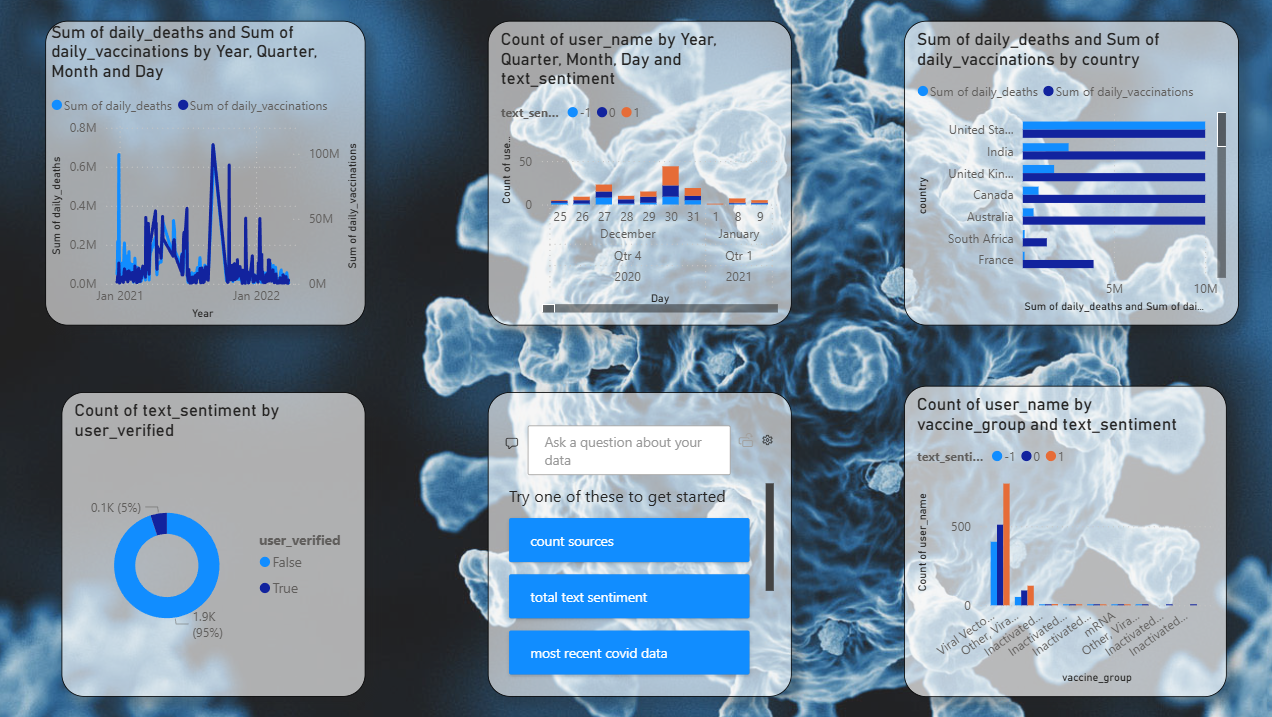

This screenshot's page, from the dashboard's own definition file:
{"tool":"powerbi","page":{"name":"Page 1","canvas":[1280,720],"ordinal":0},"visuals":[{"type":"lineChart","fields":{"Y":["Covid data.daily_deaths"],"Y2":["Covid data.daily_vaccinations"],"Category":["Covid data.Date.Variation.Date Hierarchy.Year","Covid data.Date.Variation.Date Hierarchy.Quarter","Covid data.Date.Variation.Date Hierarchy.Month","Covid data.Date.Variation.Date Hierarchy.Day"]},"box":[69.9,28.2,314.1,299.4],"z":0},{"type":"columnChart","fields":{"Y":["Covid data.user_name"],"Series":["Covid data.text_sentiment"],"Category":["Covid data.Date.Variation.Date Hierarchy.Year","Covid data.Date.Variation.Date Hierarchy.Quarter","Covid data.Date.Variation.Date Hierarchy.Month","Covid data.Date.Variation.Date Hierarchy.Day"]},"box":[504.3,28.2,298.2,299.4],"z":1000},{"type":"clusteredBarChart","fields":{"Category":["Covid data.country"],"Y":["Covid data.daily_deaths","Covid data.daily_vaccinations"]},"box":[912.9,28.2,328.8,299.4],"z":2000},{"type":"donutChart","fields":{"Category":["Covid data.user_verified"],"Y":["Covid data.text_sentiment"]},"box":[85.9,392.6,298.2,299.4],"z":3000},{"type":"clusteredColumnChart","fields":{"Category":["Covid data.vaccine_group"],"Y":["Covid data.user_name"],"Series":["Covid data.text_sentiment"]},"box":[912.9,386.5,316.6,305.5],"z":4000},{"type":"qnaVisual","box":[504.3,392.6,298.2,299.4],"z":5000}]}

Visuals, with their boxes in screenshot pixels (x1, y1, x2, y2), scaled from the page's 1280x720 canvas onto the 1272x717 screenshot:
lineChart - Covid data.daily_deaths x Covid data.daily_vaccinations: region(69, 28, 382, 326)
columnChart - Covid data.user_name x Covid data.text_sentiment: region(501, 28, 797, 326)
clusteredBarChart - Covid data.country x Covid data.daily_deaths: region(907, 28, 1234, 326)
donutChart - Covid data.user_verified x Covid data.text_sentiment: region(85, 391, 382, 689)
clusteredColumnChart - Covid data.vaccine_group x Covid data.user_name: region(907, 385, 1222, 689)
qnaVisual: region(501, 391, 797, 689)
